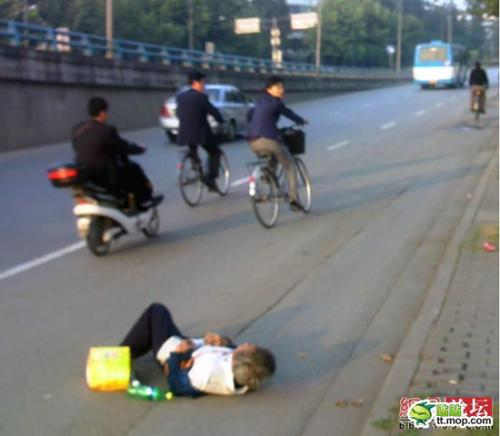fall: (102, 292, 280, 405)
